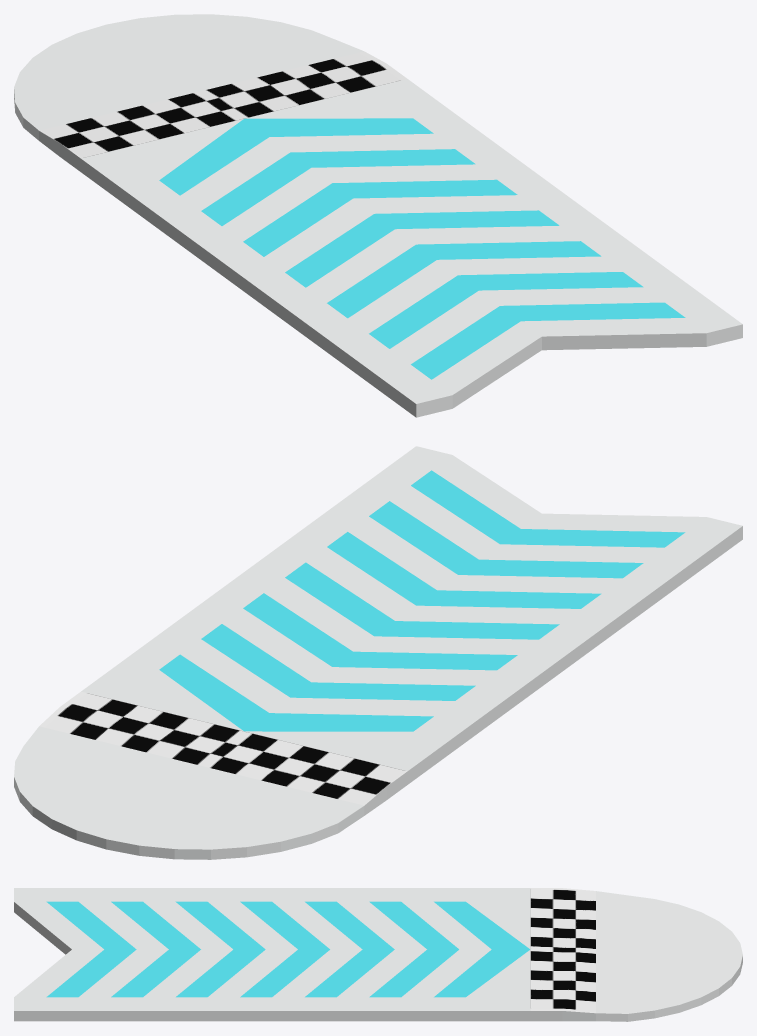
Rendered from EnfOfPlatform.fbx.
3 renders of one model, top to bottom at view 1: azimuth 30°, elevation 25°; view 2: azimuth 150°, elevation 25°; view 3: azimuth 270°, elevation 25°, orthographic. The views are drawn at different scales.
Visible parts, largest first — view 1: Cube.004; view 2: Cube.004; view 3: Cube.004.
Part boxes in pixels (<box>): Cube.004: <box>14,14,742,417</box>; Cube.004: <box>14,446,742,859</box>; Cube.004: <box>14,888,742,1021</box>.
Bounding box in the file's own units: 500 × 25 × 1255.
